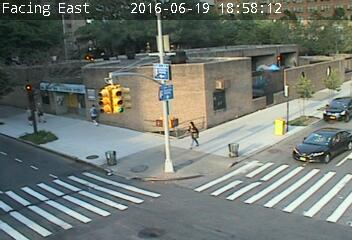neg: (224, 143, 252, 180), (202, 80, 227, 113), (97, 81, 120, 112), (51, 88, 74, 117), (90, 153, 105, 173), (22, 86, 36, 105), (268, 120, 278, 133)
pos: (178, 115, 206, 152), (83, 102, 106, 133), (19, 106, 37, 131), (31, 100, 49, 124)
